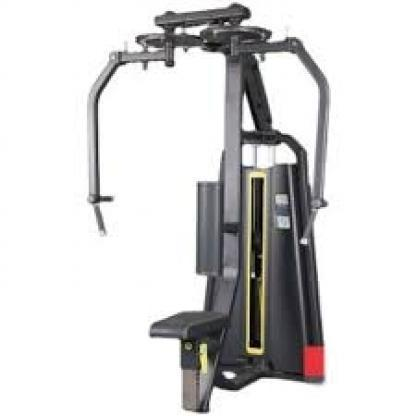chest fly machine: (68, 0, 346, 416)
